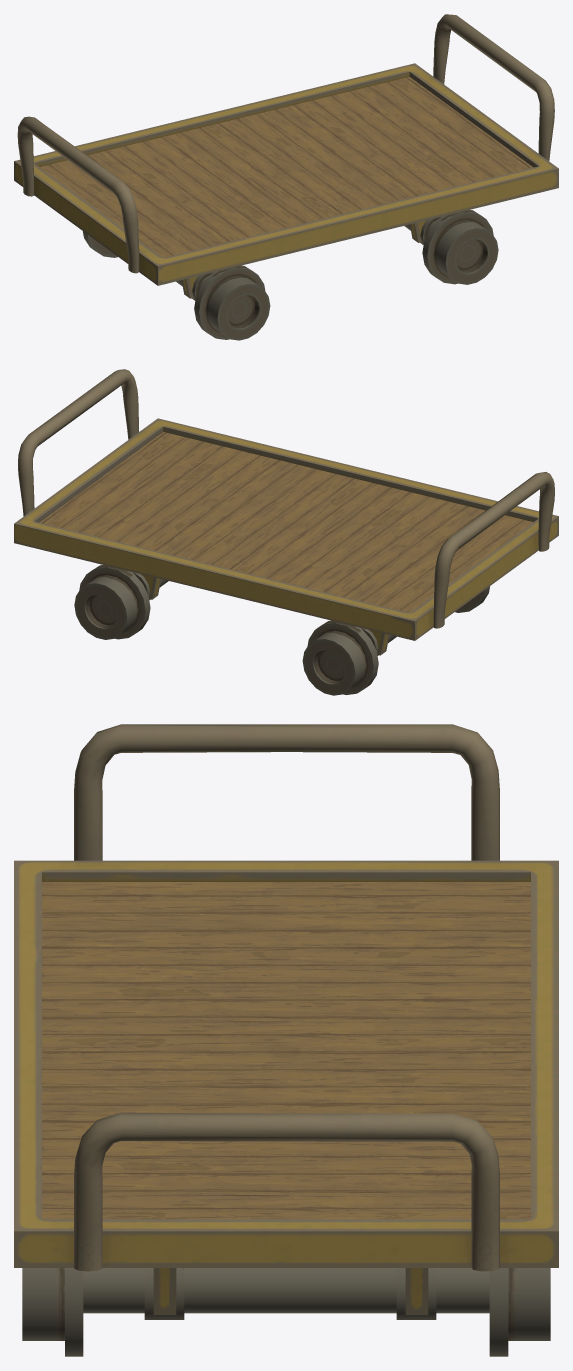
Rendered from SM_cart.glb.
The picture shows the model from 3 angles, top to bottom: view 1: azimuth 30°, elevation 25°; view 2: azimuth 150°, elevation 25°; view 3: azimuth 270°, elevation 25°; orthographic projection. The views are drawn at different scales.
Visible parts, largest first — view 1: SM_cart; view 2: SM_cart; view 3: SM_cart.
Boxes of the visible parts, x1,y1,x2,y2 form: SM_cart: (14,14,558,340); SM_cart: (14,369,558,695); SM_cart: (14,724,558,1356).
Bounding box in the file's own units: 2.61 × 0.9779 × 1.5.
2 materials, 2 textured.
